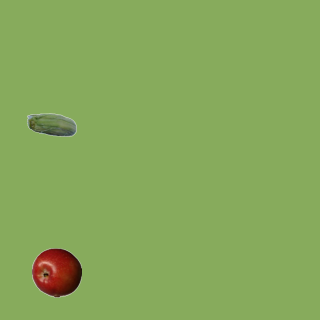Apple Braeburn: (31, 247, 81, 297)
Corn Husk: (26, 101, 76, 151)
